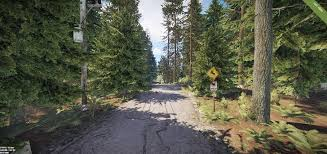tree: (110, 1, 138, 112), (287, 1, 316, 89), (252, 1, 270, 120), (233, 1, 249, 111), (206, 1, 224, 97), (186, 5, 198, 94)
